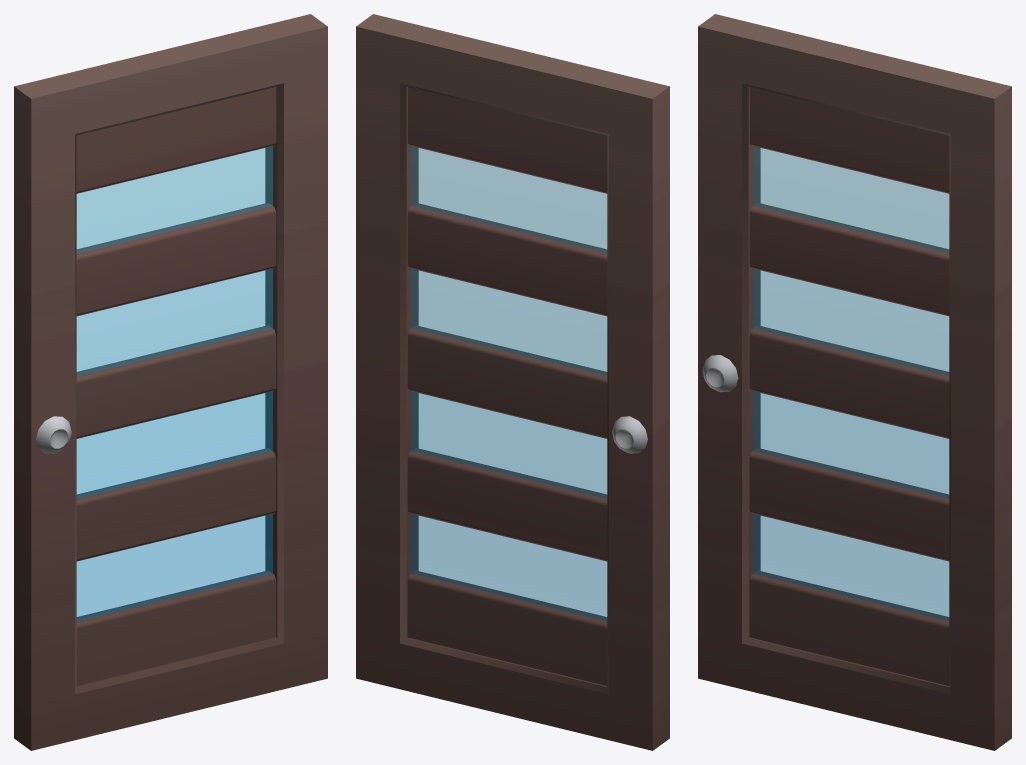
The model's file is Door_Brown_08.glb.
3 renders of one model, left to right at view 1: azimuth 30°, elevation 25°; view 2: azimuth 150°, elevation 25°; view 3: azimuth 330°, elevation 25°, orthographic.
Parts seen in each view (by area): view 1: Door_Brown_08; view 2: Door_Brown_08; view 3: Door_Brown_08.
Boxes of the visible parts, x1=… form: Door_Brown_08: x1=14, y1=14, x2=327, y2=750; Door_Brown_08: x1=356, y1=14, x2=669, y2=750; Door_Brown_08: x1=698, y1=14, x2=1011, y2=750.
Bounding box in the file's own units: 1 × 2.1 × 0.1634.
Materials: 2 (2 with a texture image).
